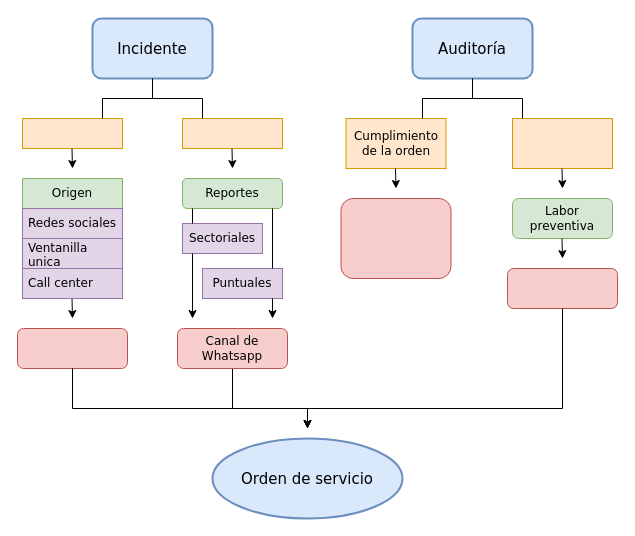
The diagram is 635 pixels wide and 536 high, and some of its shapes have lost their labels. The centre of each missing label's shape, as x and y in pixels:
"Cirre del reclamo" goes at [395,238].
"Control de tareas" goes at [562,143].
"Deteccion de incidentes" goes at [562,288].
"Inspectores" goes at [232,133].
"Muni digital" goes at [72,348].
"Reclamos" goes at [72,133].
